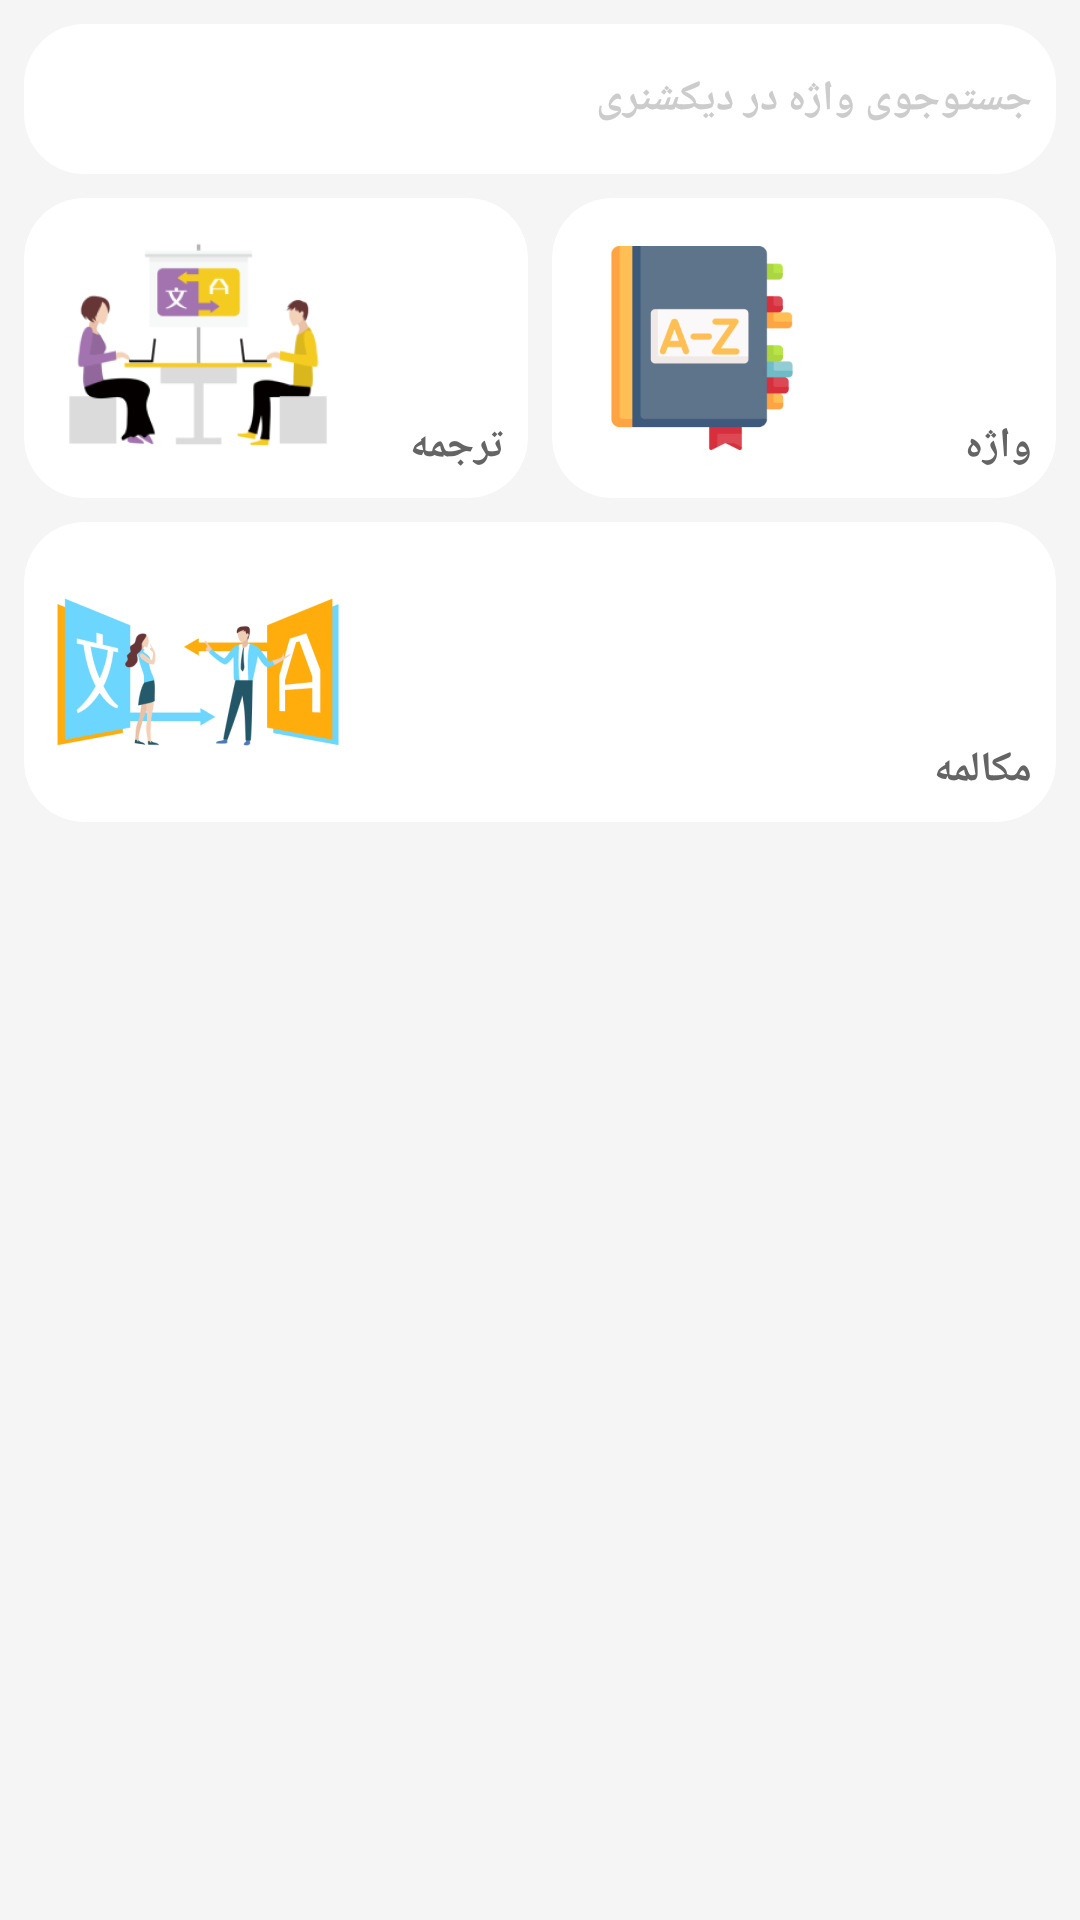

Named icons in this screenshot (1080px x 1920px) and their bounding boxes, (x1, y1, x2, y2):
conversation: (57, 598, 339, 746)
dictionary: (611, 246, 793, 450)
translate: (70, 244, 326, 446)
